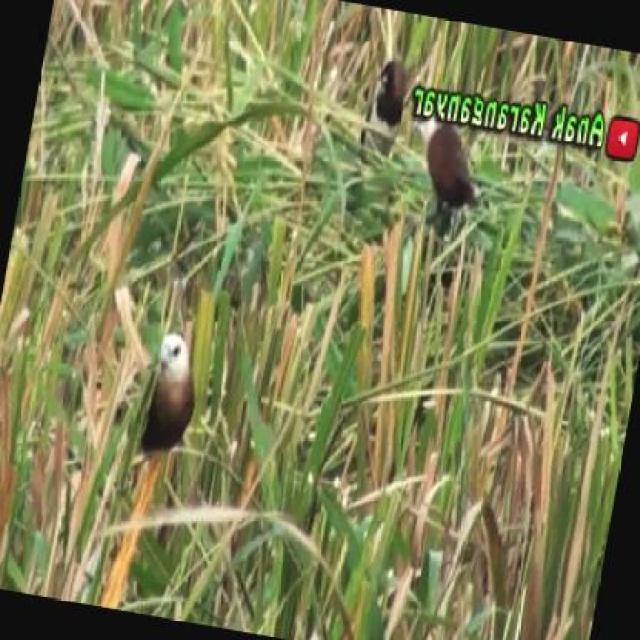Bird: (147, 326, 196, 464), (427, 126, 475, 220), (382, 56, 405, 131)
